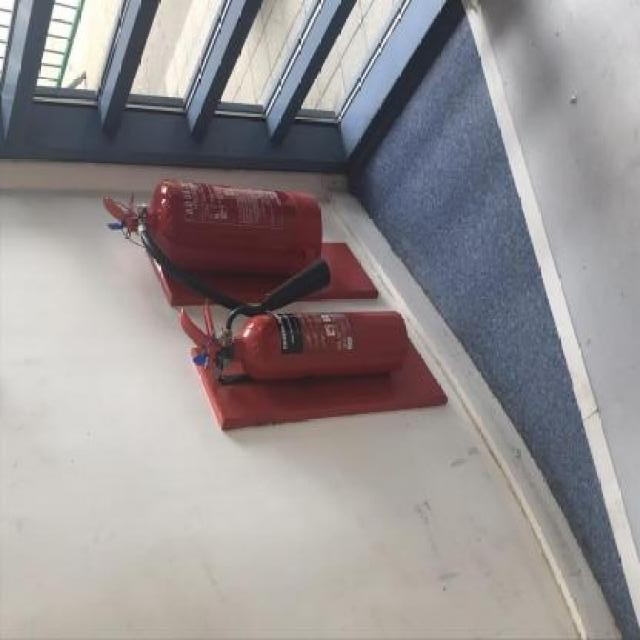fire extinguisher: (103, 178, 323, 316), (179, 259, 407, 383)
